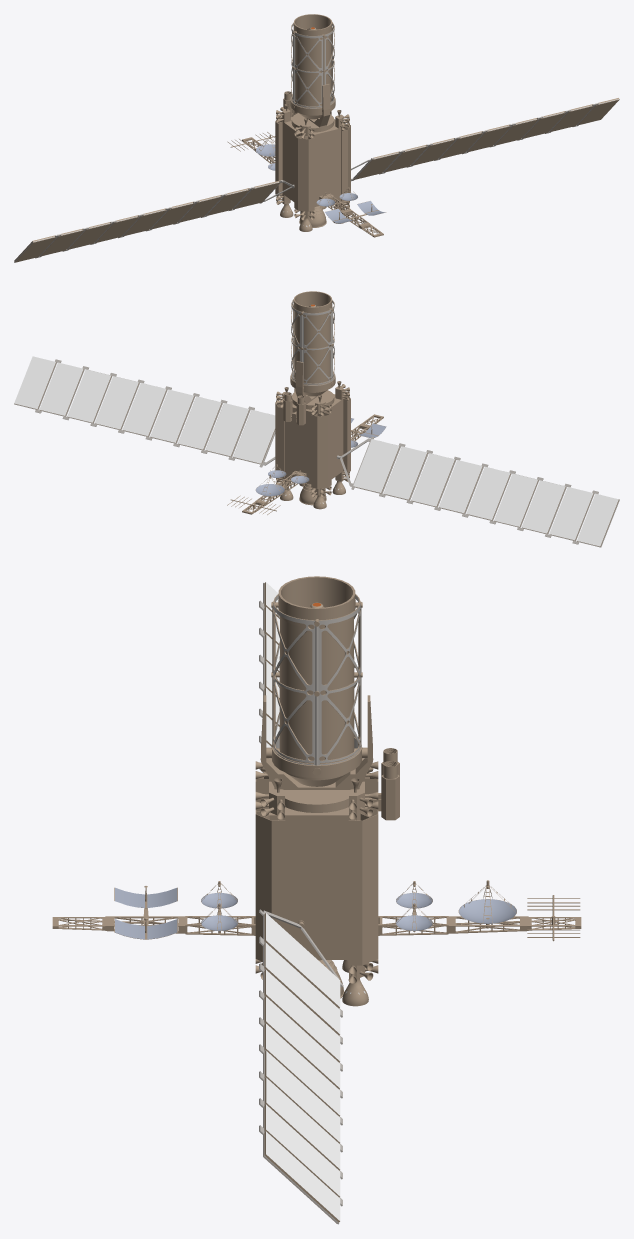
The model's file is satellite003.gltf.
3 views of the same model, one above another, from view 1: azimuth 30°, elevation 25°; view 2: azimuth 150°, elevation 25°; view 3: azimuth 270°, elevation 25° (orthographic). The views are drawn at different scales.
Visible parts, largest first — view 1: GPS satellite002; view 2: GPS satellite002, GPS satellite001; view 3: GPS satellite002, GPS satellite001.
Part boxes in pixels (x1,y1,x2,y2): GPS satellite002: (14, 14, 619, 262); GPS satellite002: (14, 291, 619, 547); GPS satellite001: (283, 392, 305, 425); GPS satellite002: (52, 576, 581, 1224); GPS satellite001: (378, 748, 399, 820).
Bounding box in the file's own units: 25.48 × 8.3 × 9.94.
